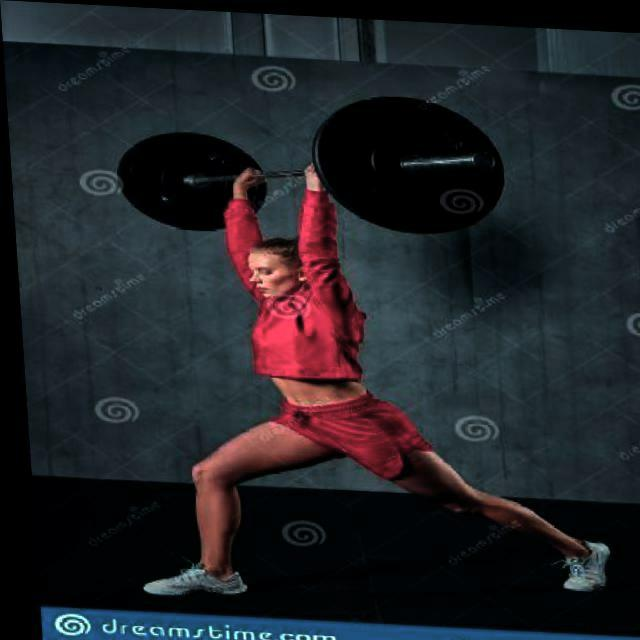barbell: (310, 85, 509, 237)
